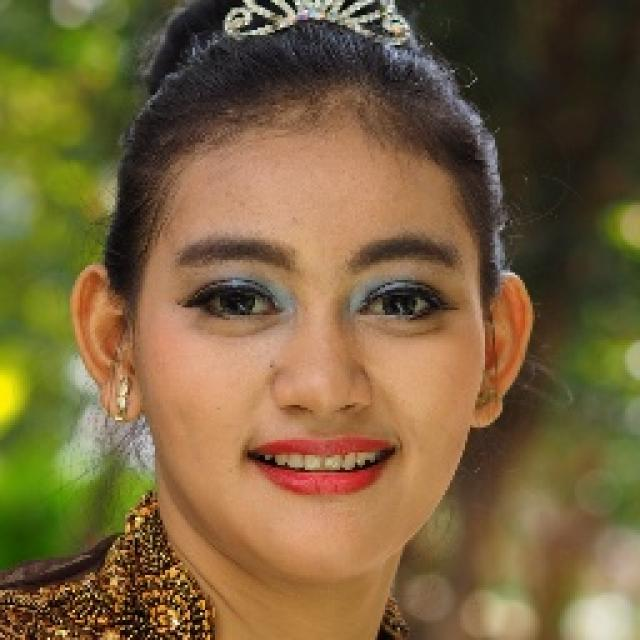earlobe: (100, 372, 142, 424), (471, 385, 504, 429)
eye: (186, 281, 285, 318), (362, 281, 443, 320)
nose: (274, 402, 366, 432)
wholeear: (70, 263, 141, 424), (470, 271, 534, 429)
